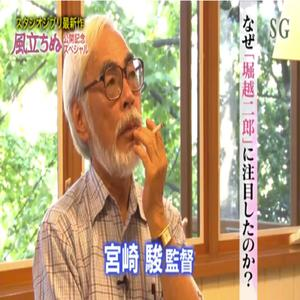cigarette: (150, 122, 166, 137)
